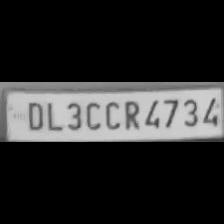3: (62, 99, 82, 131), (180, 96, 198, 128)
4: (200, 94, 220, 128), (141, 97, 161, 129)
7: (160, 96, 178, 128)
C: (102, 98, 122, 130), (83, 98, 101, 130)
D: (22, 99, 44, 131)
L: (44, 99, 62, 131)
R: (120, 97, 140, 130)
